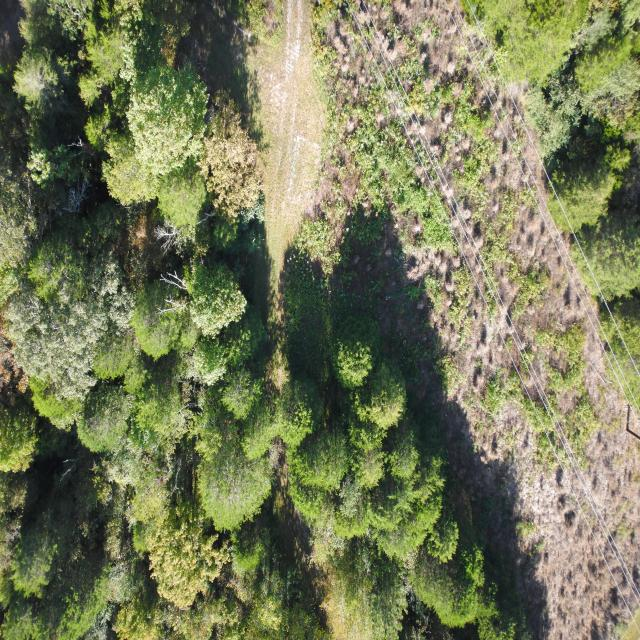Area of Interest: (11, 19, 504, 625), (502, 16, 628, 356)
